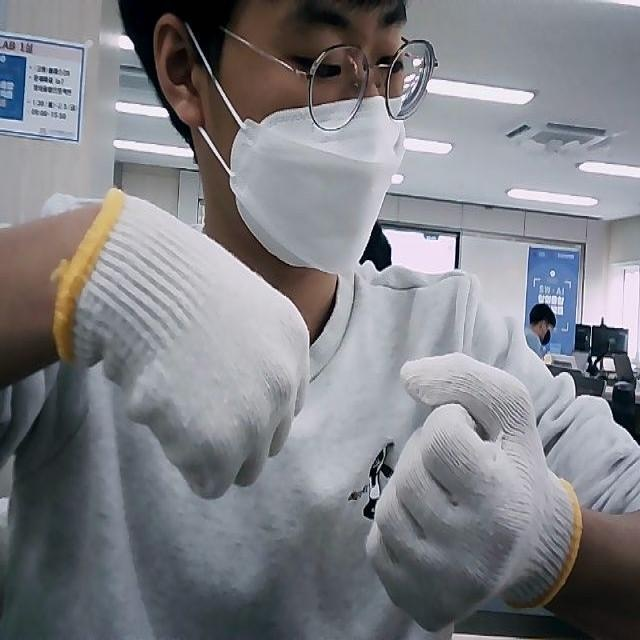Guantes: (55, 188, 312, 495), (363, 355, 581, 628)
